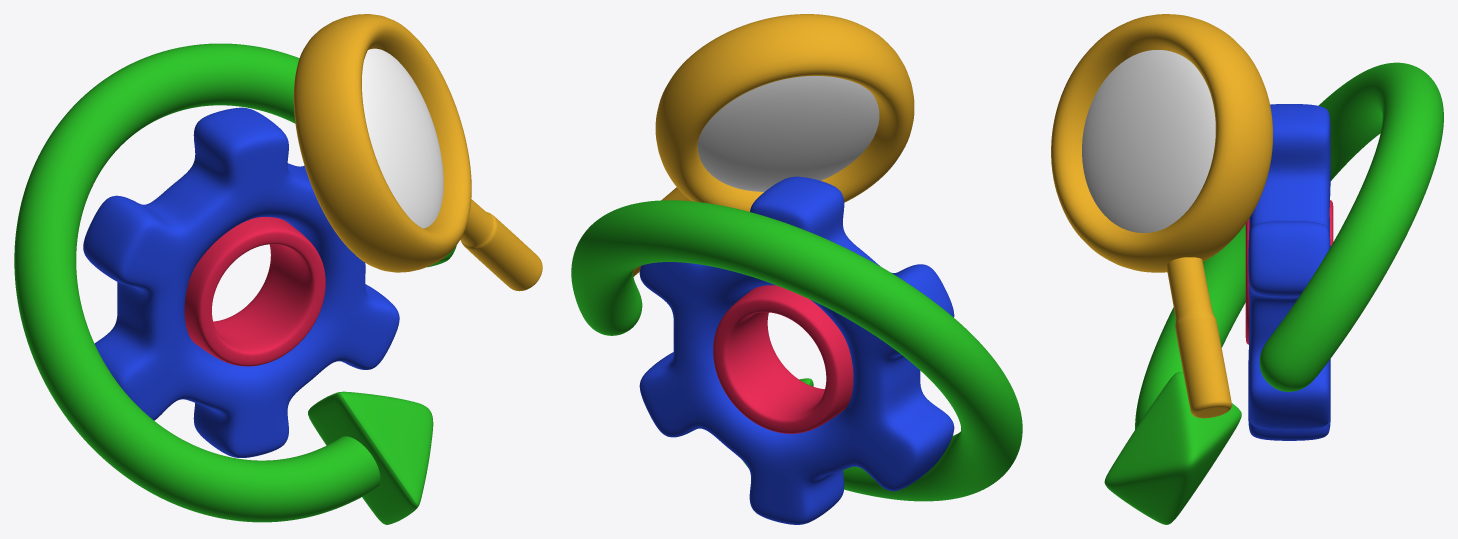
Rendered from operational-audit-3d-icon-946801084360.glb.
3 renders of one model, left to right at view 1: azimuth 30°, elevation 25°; view 2: azimuth 150°, elevation 25°; view 3: azimuth 270°, elevation 25°, orthographic.
Parts seen in each view (by area): view 1: Arrow, Gear, Frame, Gear Bearing, Lens; view 2: Arrow, Gear, Frame, Lens, Gear Bearing; view 3: Arrow, Frame, Gear, Lens, Gear Bearing.
Boxes of the visible parts, x1,y1,x2,y2 form: Arrow: [14, 43, 456, 524]; Gear: [83, 107, 399, 457]; Frame: [293, 14, 542, 291]; Gear Bearing: [184, 217, 325, 366]; Lens: [362, 48, 443, 228]; Arrow: [571, 200, 1022, 501]; Gear: [639, 176, 954, 524]; Frame: [633, 14, 914, 276]; Lens: [697, 76, 879, 191]; Gear Bearing: [713, 285, 853, 433]; Arrow: [1104, 62, 1443, 524]; Frame: [1051, 14, 1272, 418]; Gear: [1248, 104, 1330, 440]; Lens: [1082, 50, 1215, 232]; Gear Bearing: [1245, 200, 1333, 344].
Size of the model in its own units: 1.61 by 1.63 by 1.18.
